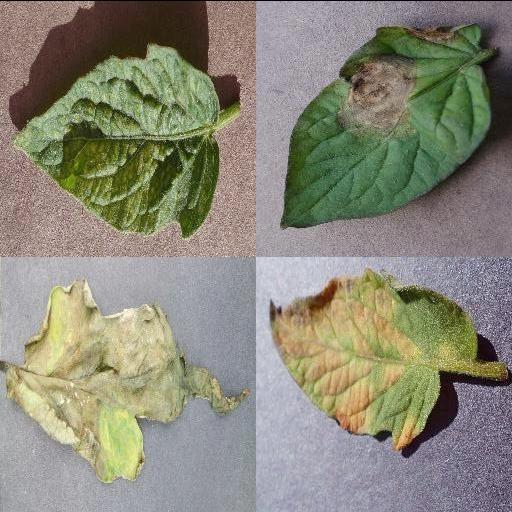Late Blight: (5, 280, 251, 482), (278, 21, 492, 229)
Leaf Mold: (269, 266, 479, 448)
Spider Mites: (13, 42, 221, 238)
